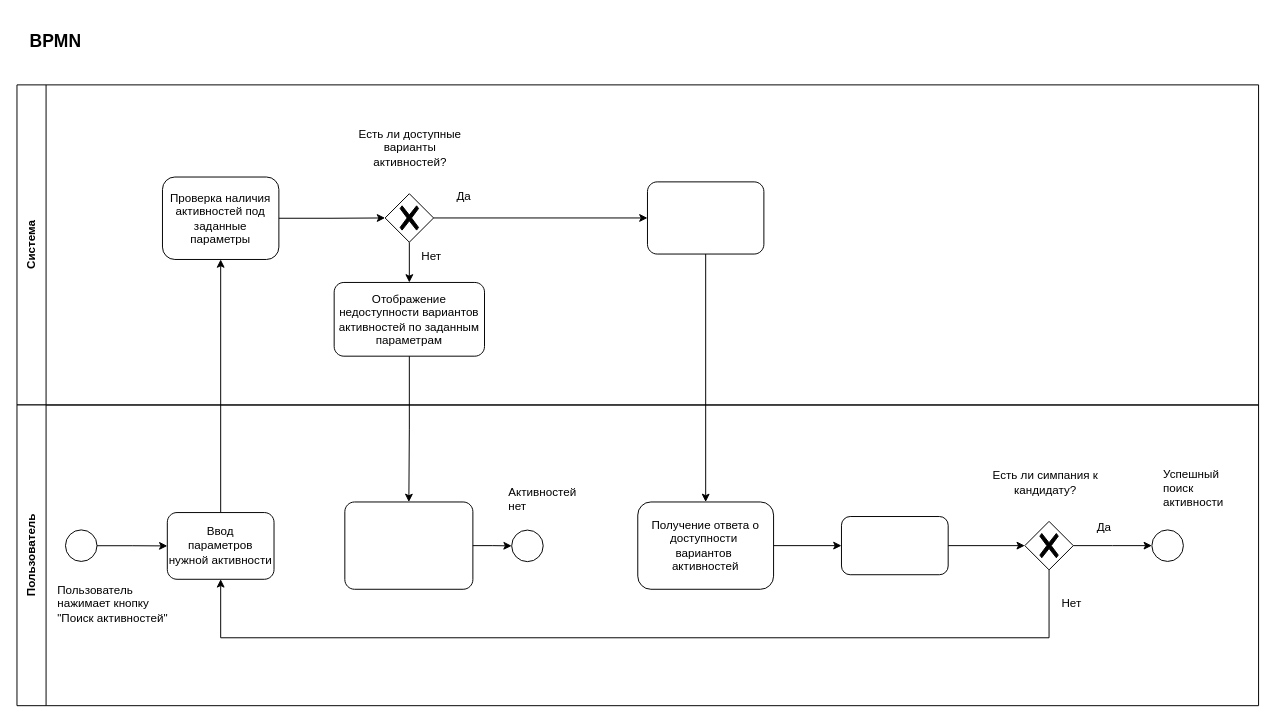
Some shapes in this 1276 by 723 pixel diagram are drawn without their labels. Here are the shapes that lost their labels. From the top down, the box of each, then its label:
(647, 181, 764, 254): Отображение списка кандидатов
(344, 501, 473, 589): Получение ответа о недоступности вариантов активностей
(841, 516, 948, 575): Выбор кандидата
